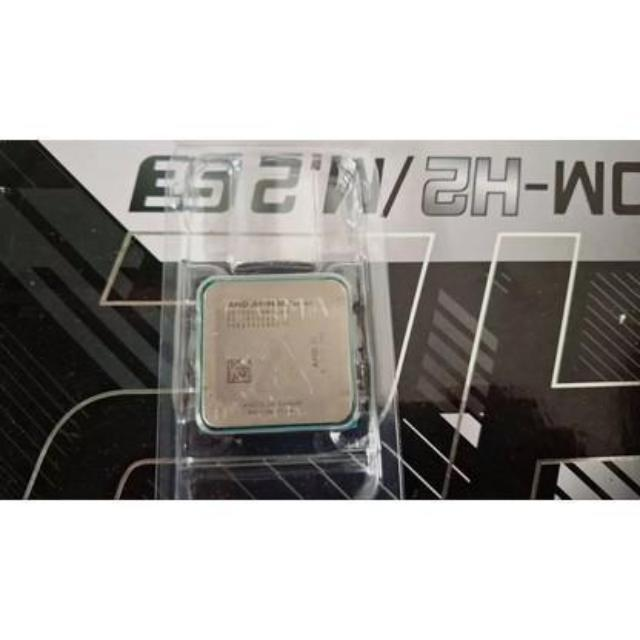CPU: (200, 277, 354, 429)
